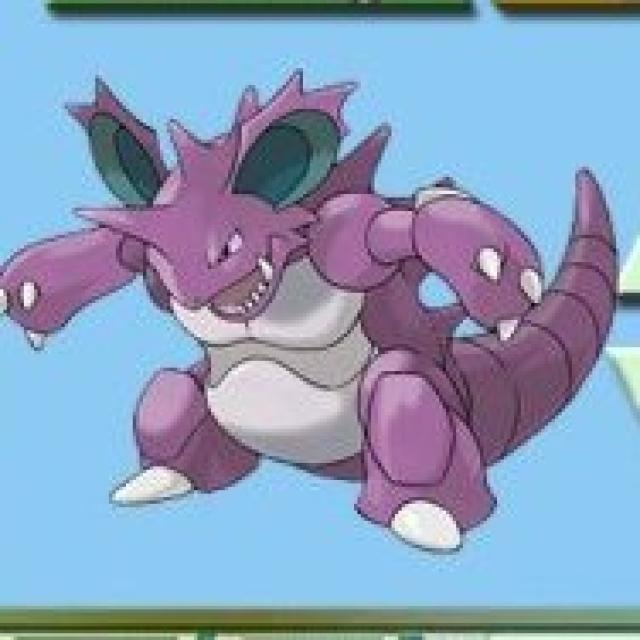Nidoking: (83, 62, 561, 510)
